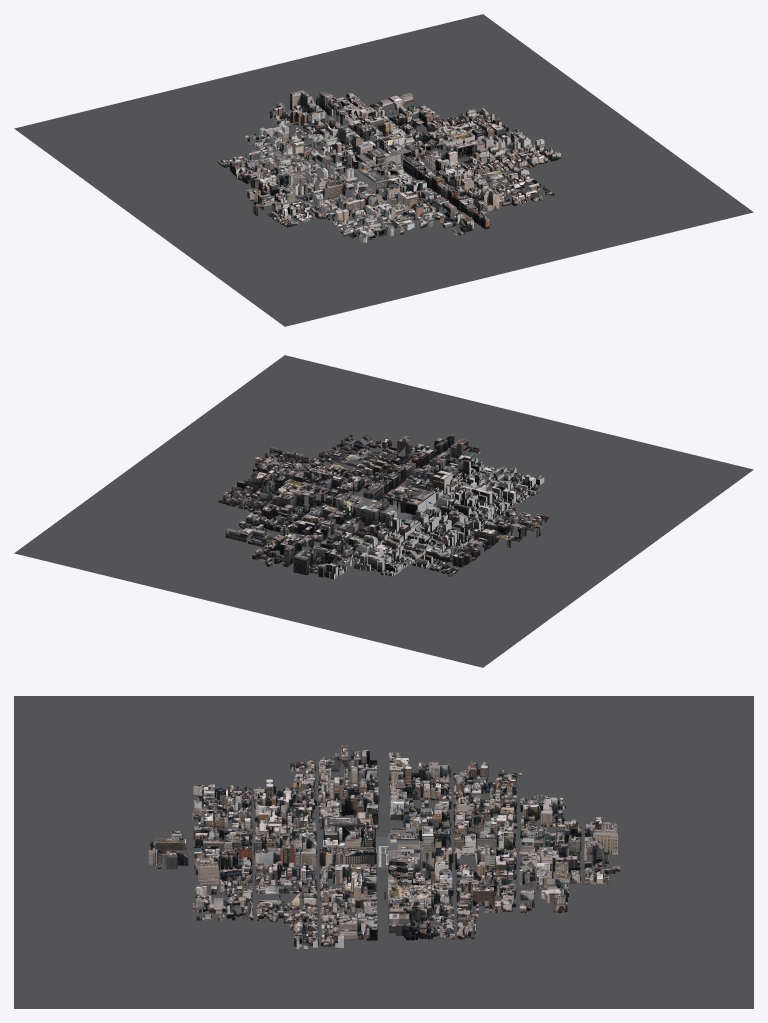
The model's file is stage.glb.
The picture shows the model from 3 angles, top to bottom: view 1: azimuth 30°, elevation 25°; view 2: azimuth 150°, elevation 25°; view 3: azimuth 270°, elevation 25°; orthographic projection. The views are drawn at different scales.
Parts seen in each view (by area): view 1: GROUND, Mesh_0.048, Mesh_0.020, Mesh_0.018, Mesh_0.016, Mesh_0.031, Mesh_0.029, Mesh_0.047, Mesh_0.023, Mesh_0.033, Mesh_0.035, Mesh_0.015 (+31 smaller); view 2: GROUND, Mesh_0.048, Mesh_0.018, Mesh_0.037, Mesh_0.041, Mesh_0.016, Mesh_0.033, Mesh_0.046, Mesh_0.006, Mesh_0.043, Mesh_0.028, Mesh_0.050 (+30 smaller); view 3: GROUND, Mesh_0.035, Mesh_0.015, Mesh_0.018, Mesh_0.005, Mesh_0.050, Mesh_0.032, Mesh_0.038, Mesh_0.048, Mesh_0.039, Mesh_0.047, Mesh_0.019 (+38 smaller).
Part boxes in pixels (x1=…): GROUND: x1=14, y1=14, x2=753, y2=326; Mesh_0.048: x1=268, y1=90, x2=322, y2=126; Mesh_0.020: x1=365, y1=191, x2=418, y2=220; Mesh_0.018: x1=423, y1=121, x2=474, y2=151; Mesh_0.016: x1=293, y1=177, x2=345, y2=203; Mesh_0.031: x1=322, y1=199, x2=380, y2=230; Mesh_0.029: x1=418, y1=194, x2=477, y2=223; Mesh_0.047: x1=504, y1=144, x2=560, y2=169; Mesh_0.023: x1=451, y1=135, x2=505, y2=167; Mesh_0.033: x1=386, y1=204, x2=433, y2=234; Mesh_0.035: x1=330, y1=100, x2=384, y2=126; Mesh_0.015: x1=410, y1=175, x2=457, y2=208; GROUND: x1=14, y1=355, x2=753, y2=667; Mesh_0.048: x1=293, y1=548, x2=346, y2=579; Mesh_0.018: x1=274, y1=479, x2=329, y2=508; Mesh_0.037: x1=353, y1=549, x2=408, y2=576; Mesh_0.041: x1=412, y1=548, x2=466, y2=576; Mesh_0.016: x1=439, y1=500, x2=490, y2=531; Mesh_0.033: x1=449, y1=457, x2=507, y2=485; Mesh_0.046: x1=490, y1=466, x2=544, y2=495; Mesh_0.006: x1=346, y1=512, x2=397, y2=540; Mesh_0.043: x1=218, y1=485, x2=271, y2=512; Mesh_0.028: x1=246, y1=504, x2=294, y2=532; Mesh_0.050: x1=252, y1=538, x2=300, y2=567; GROUND: x1=14, y1=696, x2=753, y2=1008; Mesh_0.035: x1=519, y1=843, x2=575, y2=885; Mesh_0.015: x1=238, y1=825, x2=294, y2=869; Mesh_0.018: x1=388, y1=872, x2=448, y2=912; Mesh_0.005: x1=293, y1=826, x2=342, y2=867; Mesh_0.050: x1=555, y1=840, x2=620, y2=884; Mesh_0.032: x1=429, y1=762, x2=477, y2=800; Mesh_0.038: x1=195, y1=853, x2=244, y2=896; Mesh_0.048: x1=558, y1=817, x2=617, y2=855; Mesh_0.039: x1=388, y1=903, x2=430, y2=940; Mesh_0.047: x1=288, y1=915, x2=338, y2=948; Mesh_0.019: x1=474, y1=845, x2=516, y2=885.
Bounding box in the file's own units: 1500 × 56.66 × 1500.
Materials: 121 (55 with a texture image).
